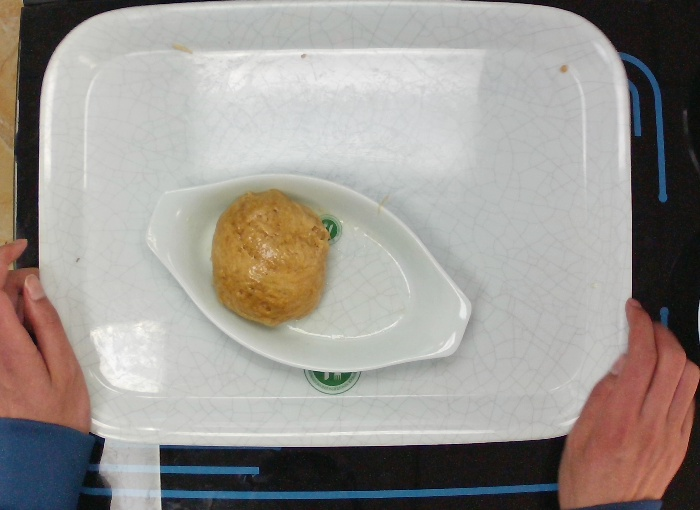JYsf-Yu_Pan: (139, 167, 474, 377)
